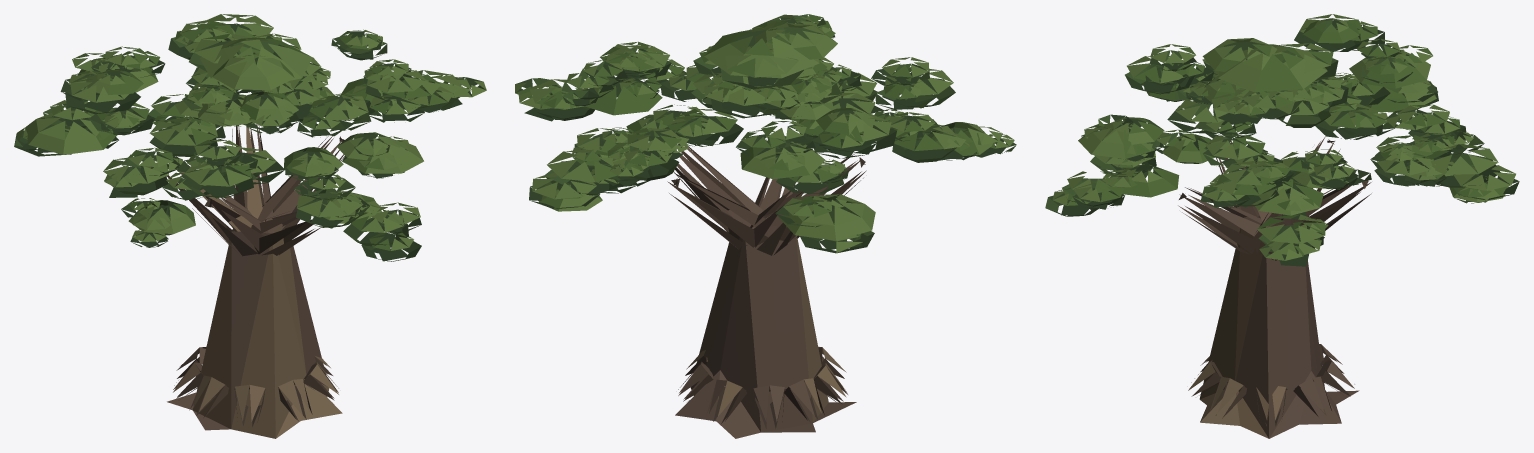
Rendered from landmark-far.glb.
3 renders of one model, left to right at view 1: azimuth 30°, elevation 25°; view 2: azimuth 150°, elevation 25°; view 3: azimuth 270°, elevation 25°, orthographic. The views are drawn at different scales.
Parts seen in each view (by area): view 1: cypress.001; view 2: cypress.001; view 3: cypress.001.
Part boxes in pixels (x1=…): cypress.001: x1=14, y1=14, x2=486, y2=438; cypress.001: x1=515, y1=14, x2=1016, y2=438; cypress.001: x1=1045, y1=14, x2=1519, y2=438.
Size of the model in its own units: 48.92 by 40.91 by 49.07.
Materials: 1 (1 with a texture image).
